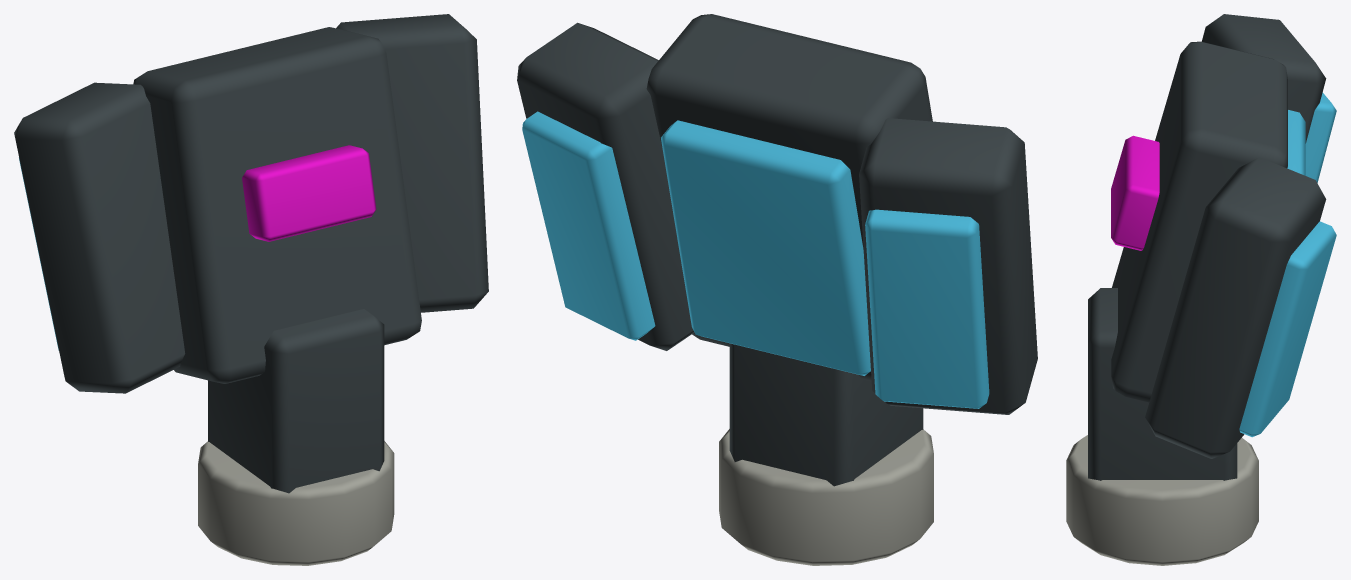
The model's file is mixed-tank-radar.glb.
3 renders of one model, left to right at view 1: azimuth 30°, elevation 25°; view 2: azimuth 150°, elevation 25°; view 3: azimuth 270°, elevation 25°, orthographic. The views are drawn at different scales.
Parts seen in each view (by area): view 1: Radar; view 2: Radar; view 3: Radar.
Boxes of the visible parts, box(x1,y1,x2,y2) form: Radar: box(14, 14, 488, 565); Radar: box(517, 14, 1037, 565); Radar: box(1066, 14, 1336, 565).
Bounding box in the file's own units: 0.4784 × 0.4618 × 0.2555.
